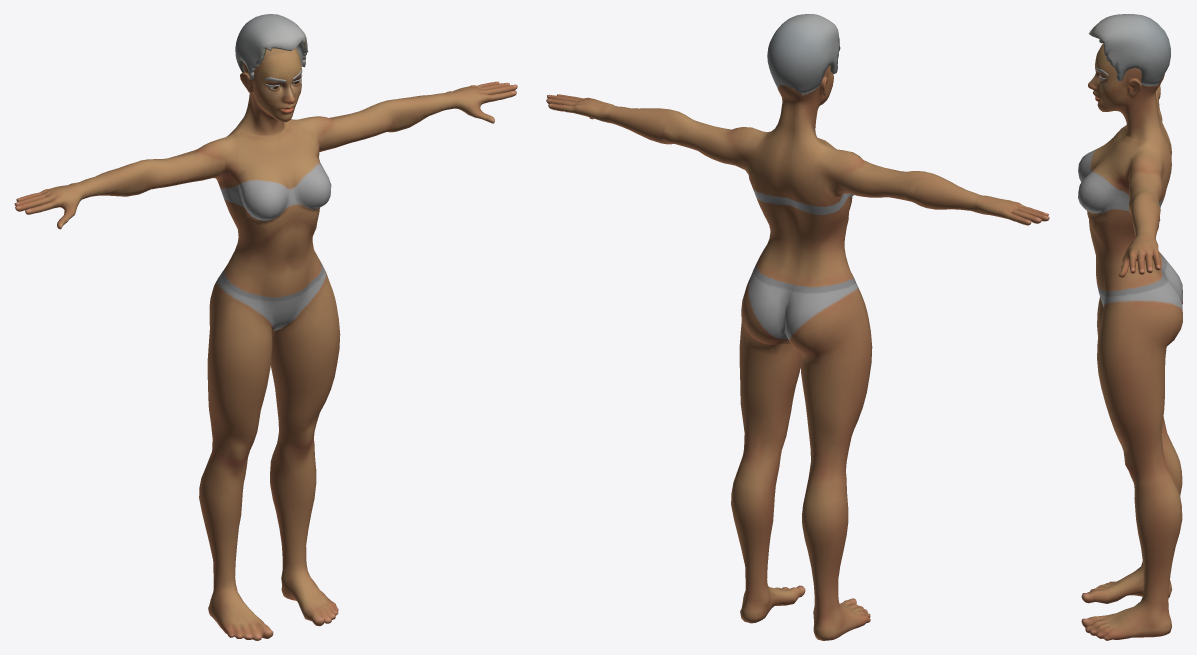
The model's file is character-female-c.glb.
3 renders of one model, left to right at view 1: azimuth 30°, elevation 25°; view 2: azimuth 150°, elevation 25°; view 3: azimuth 270°, elevation 25°, orthographic.
Parts seen in each view (by area): view 1: crowd-body; view 2: crowd-body; view 3: crowd-body.
Boxes of the visible parts, <box> form: crowd-body: <box>14,14,517,640</box>; crowd-body: <box>546,14,1049,640</box>; crowd-body: <box>1078,14,1182,640</box>.
Size of the model in its own units: 1.39 by 1.59 by 0.2521.
Materials: 4 (4 with a texture image).
